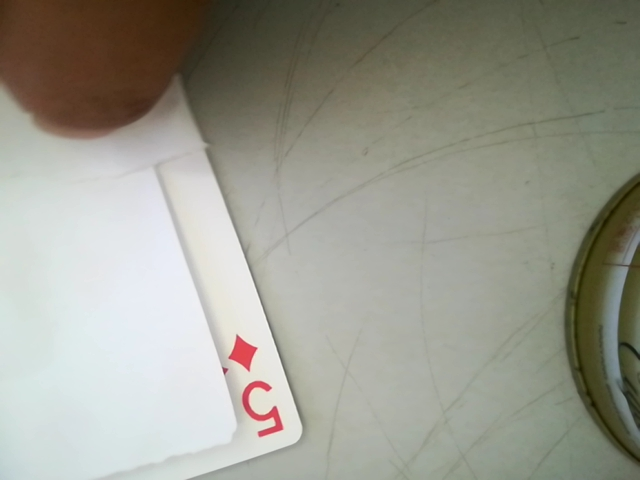fk 5: (214, 321, 286, 446)
